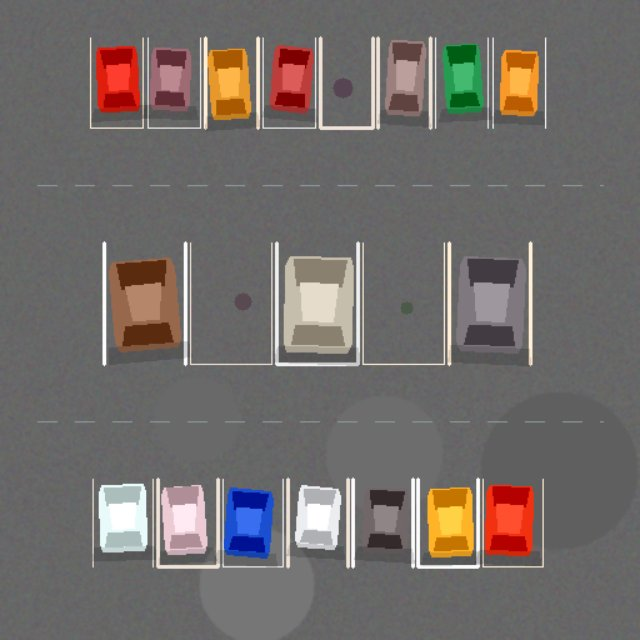space-empty: (190, 243, 271, 364), (363, 243, 444, 364), (320, 37, 373, 127)
space-occupied: (104, 243, 185, 364), (276, 243, 357, 364), (449, 243, 530, 364), (92, 479, 152, 566), (158, 479, 218, 566), (222, 479, 282, 566), (288, 479, 348, 566), (352, 479, 412, 566), (418, 479, 478, 566), (482, 479, 542, 566), (90, 37, 143, 127), (147, 37, 200, 127), (377, 37, 430, 127), (205, 37, 257, 127), (263, 37, 315, 127), (435, 37, 487, 127), (493, 37, 545, 127)
